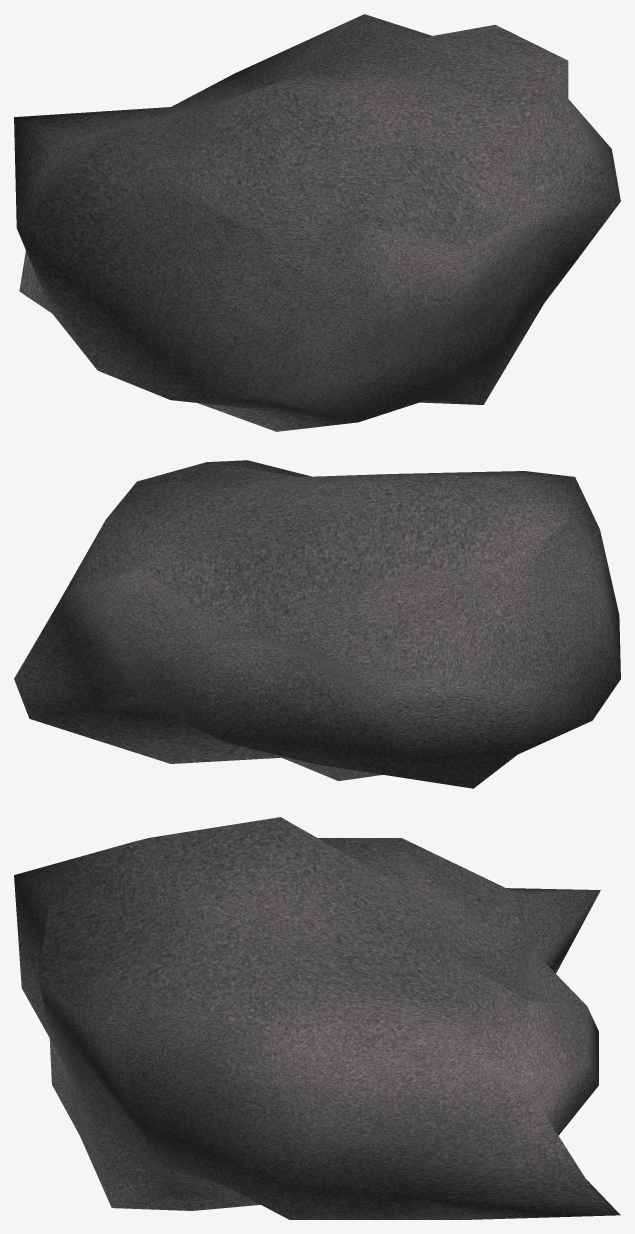
Rendered from RockParticl1.fbx.
3 renders of one model, top to bottom at view 1: azimuth 30°, elevation 25°; view 2: azimuth 150°, elevation 25°; view 3: azimuth 270°, elevation 25°, orthographic. The views are drawn at different scales.
Visible parts, largest first — view 1: Rock1; view 2: Rock1; view 3: Rock1.
Boxes of the visible parts, box(x1,y1,x2,y2) form: Rock1: box(14, 14, 620, 431); Rock1: box(14, 460, 620, 788); Rock1: box(14, 817, 620, 1219).
Bounding box in the file's own units: 247 × 146 × 240.
